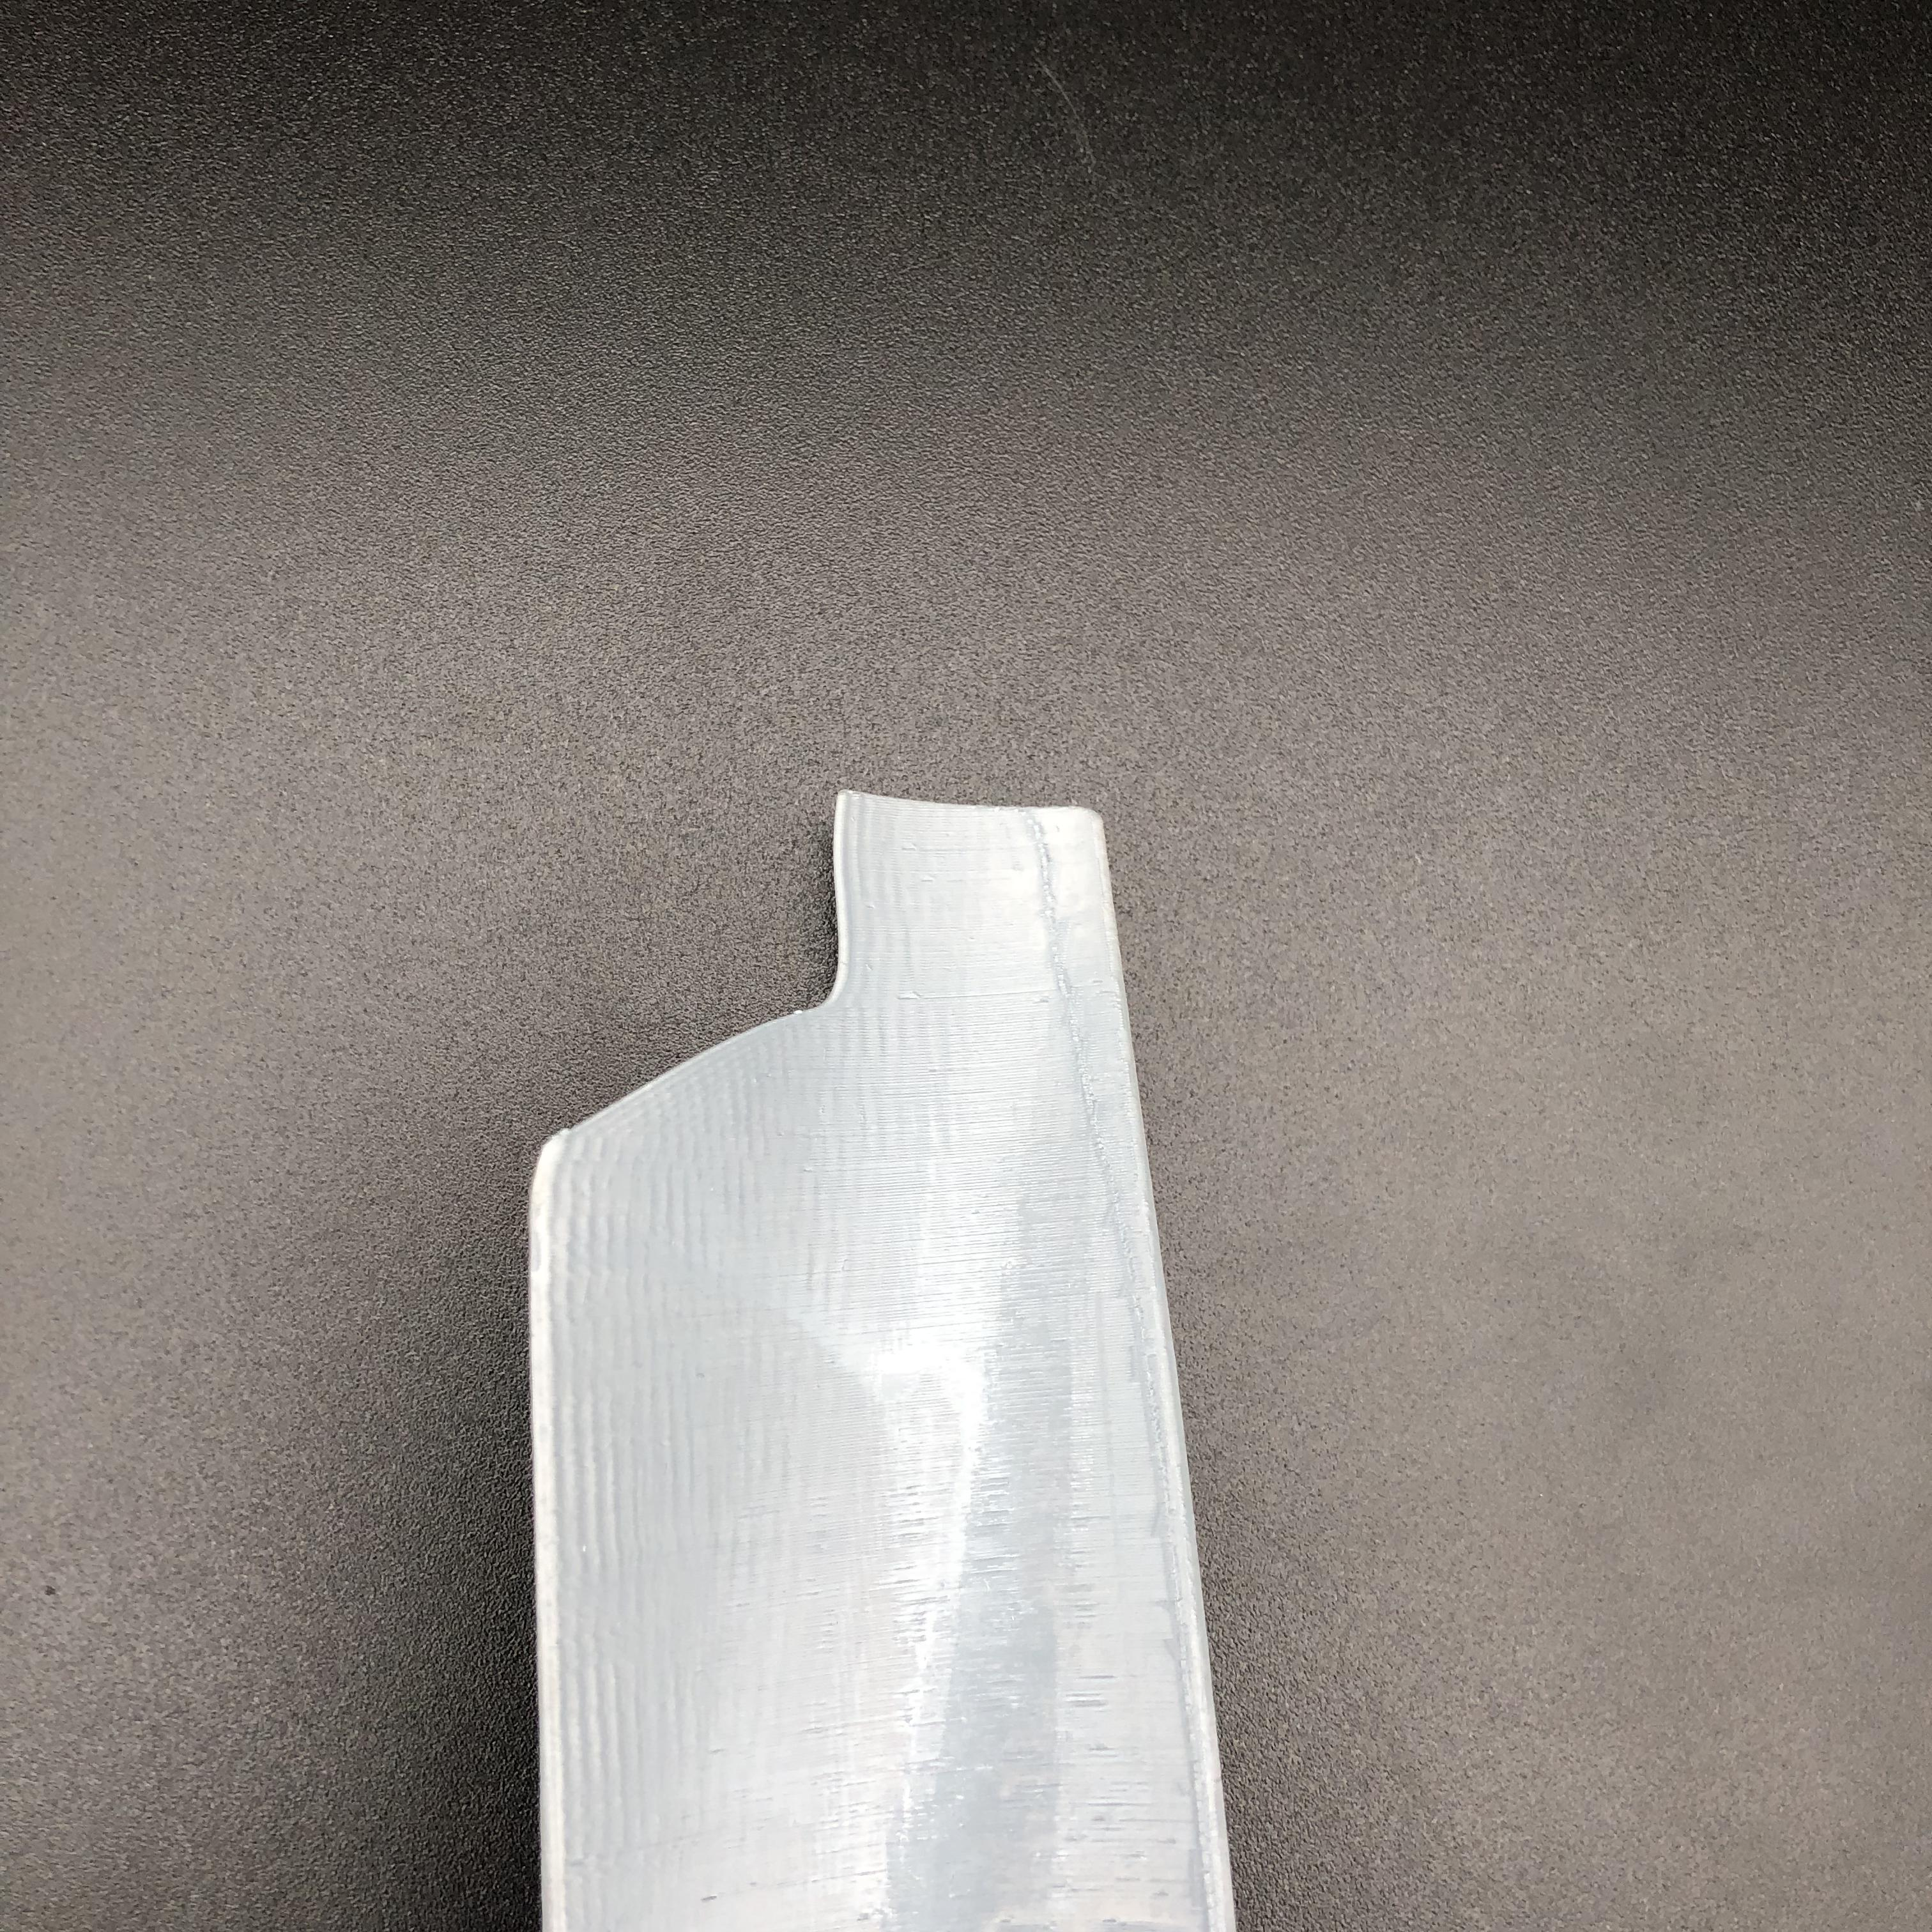fracture: (529, 840, 906, 1152)
